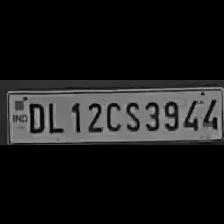1: (64, 98, 84, 134)
2: (84, 99, 104, 134)
3: (140, 96, 160, 132)
4: (180, 95, 200, 131), (200, 94, 220, 130)
9: (160, 96, 180, 132)
C: (102, 98, 122, 132)
D: (23, 99, 44, 134)
L: (44, 98, 64, 134)
S: (122, 98, 142, 132)
